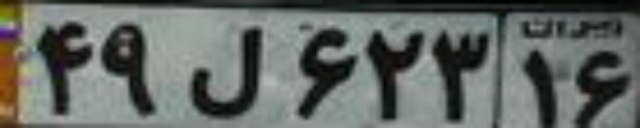1: (519, 48, 560, 127)
2: (367, 26, 428, 122)
3: (432, 28, 488, 123)
4: (35, 21, 94, 116)
6: (292, 27, 361, 119), (569, 48, 631, 127)
9: (102, 22, 158, 116)
lam: (186, 24, 259, 119)
